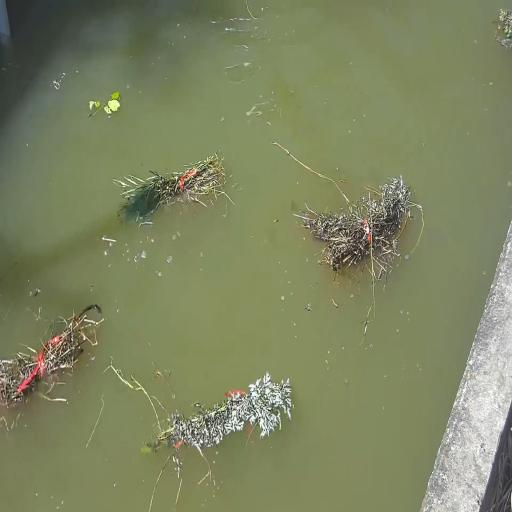twig: (140, 372, 295, 466), (306, 175, 414, 291), (0, 304, 98, 417), (120, 157, 230, 224), (78, 84, 129, 124), (484, 10, 512, 64)
